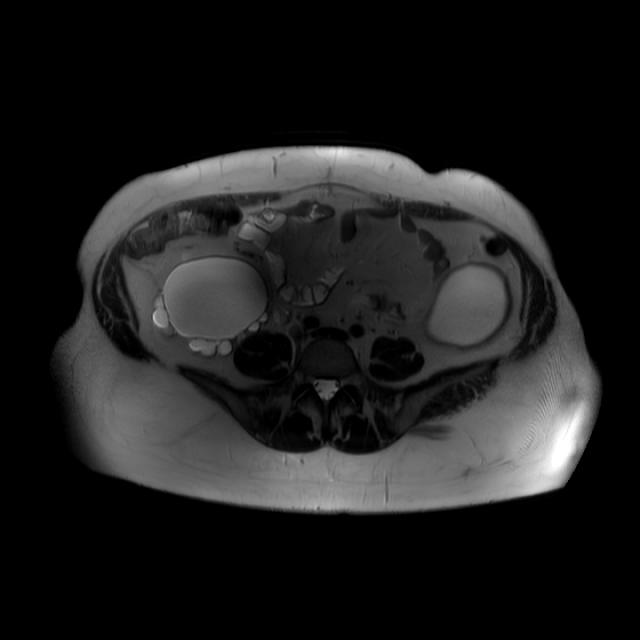sag: (153, 258, 271, 354)
sol: (428, 263, 512, 348)
